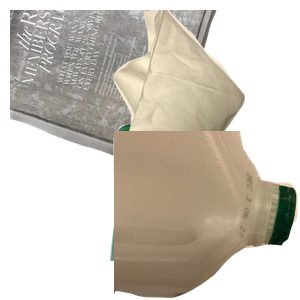glass: (107, 120, 278, 300)
paper: (10, 10, 222, 176)
plastic: (114, 131, 300, 300)
trash: (111, 10, 300, 190)
